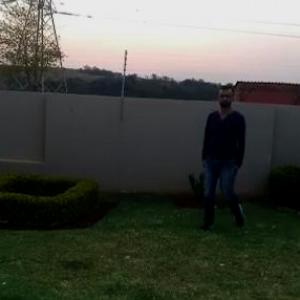follow: (197, 84, 247, 235)
